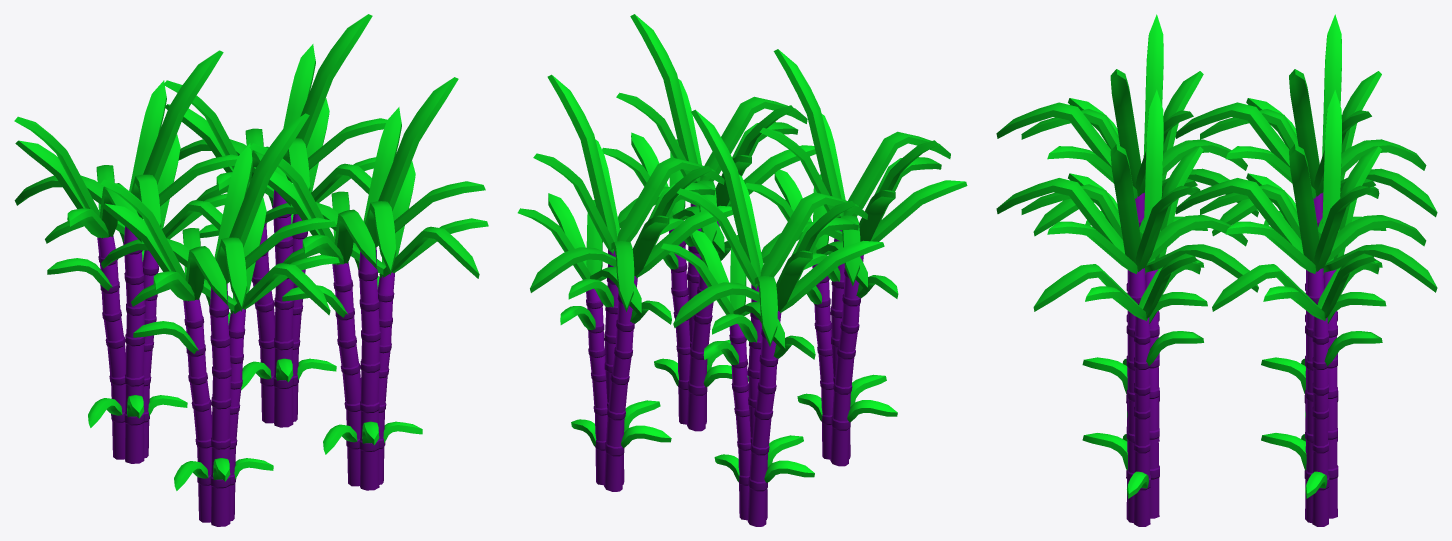
The model's file is Farm_Crop_Sugurcane_Step_03.fbx.
The picture shows the model from 3 angles, left to right: view 1: azimuth 30°, elevation 25°; view 2: azimuth 150°, elevation 25°; view 3: azimuth 270°, elevation 25°; orthographic projection. The views are drawn at different scales.
Visible parts, largest first — view 1: Farm_Crop_Sugurcane_Step_03; view 2: Farm_Crop_Sugurcane_Step_03; view 3: Farm_Crop_Sugurcane_Step_03.
Boxes of the visible parts, x1,y1,x2,y2 form: Farm_Crop_Sugurcane_Step_03: (14, 14, 488, 526); Farm_Crop_Sugurcane_Step_03: (517, 14, 967, 526); Farm_Crop_Sugurcane_Step_03: (996, 14, 1437, 526).
Bounding box in the file's own units: 238 × 256 × 247.
